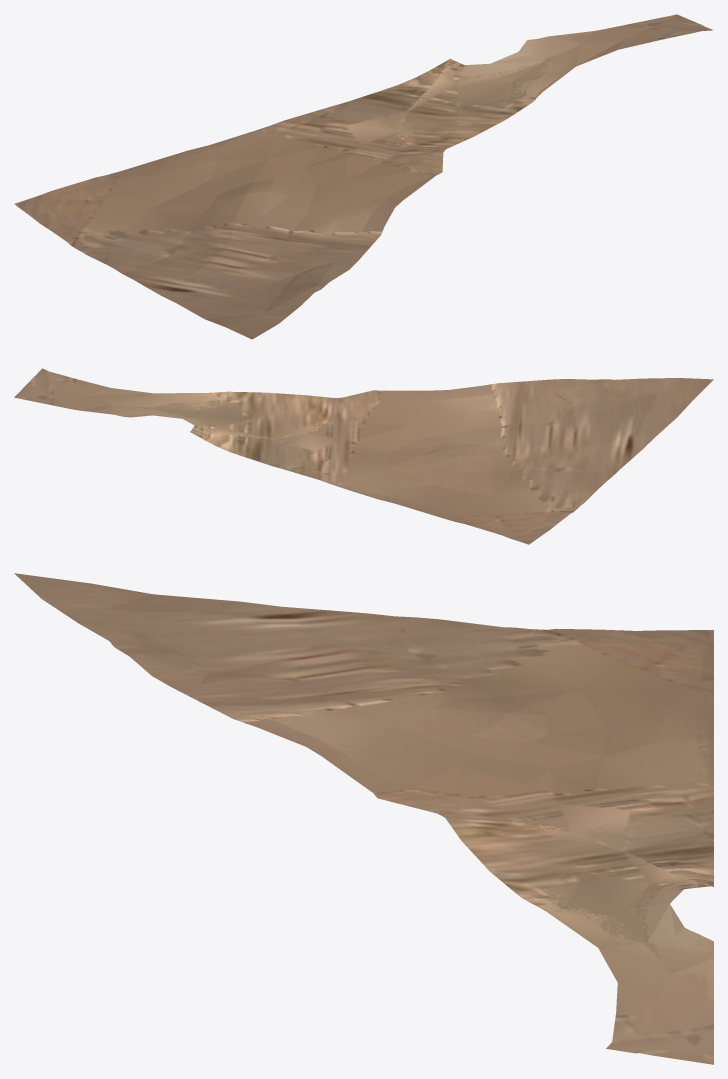
3 views of the same model, one above another, from view 1: azimuth 30°, elevation 25°; view 2: azimuth 150°, elevation 25°; view 3: azimuth 270°, elevation 25° (orthographic). The views are drawn at different scales.
Size of the model in its own units: 2.09 by 0.1185 by 1.3.
1 material, 1 textured.
